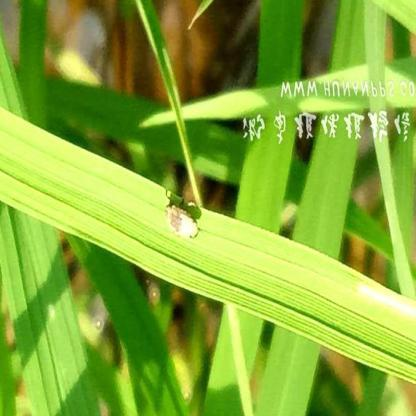rice-bug: (166, 183, 206, 238)
